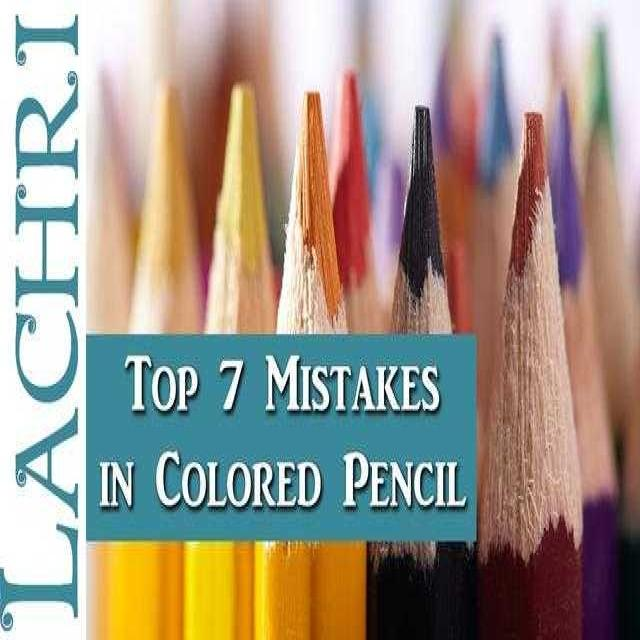pencil: (189, 52, 312, 640), (479, 96, 590, 640), (378, 98, 477, 640), (268, 100, 366, 640)
